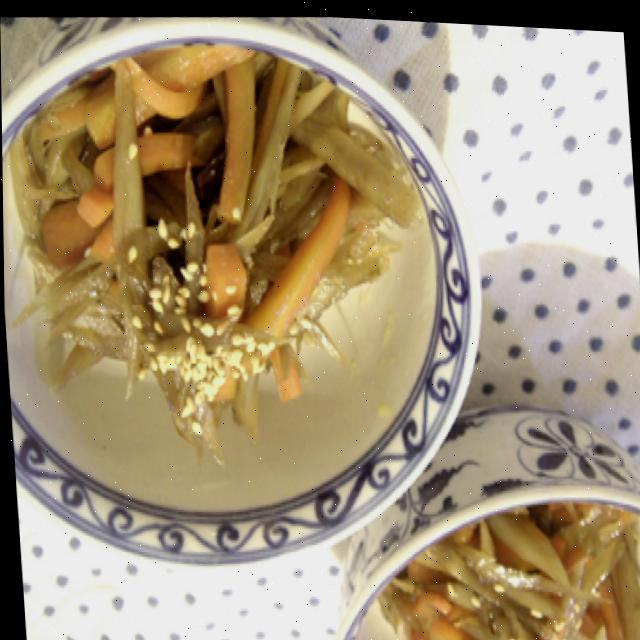蔬菜料理: (0, 19, 468, 551)
